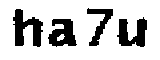7: (84, 4, 113, 48)
a: (47, 17, 78, 49)
h: (6, 7, 45, 52)
u: (116, 15, 150, 50)
